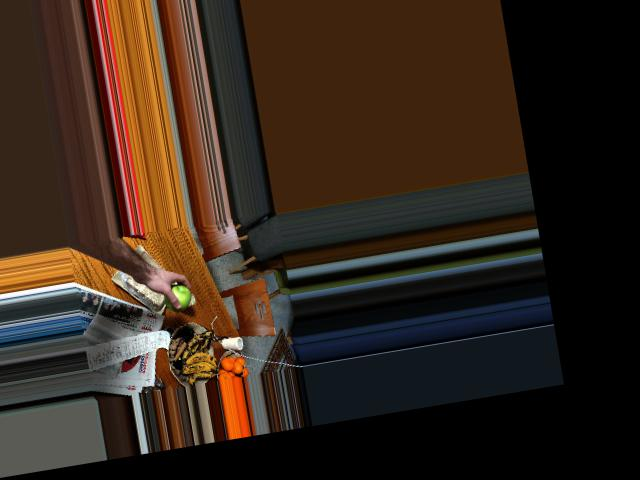apple: (156, 278, 196, 313)
